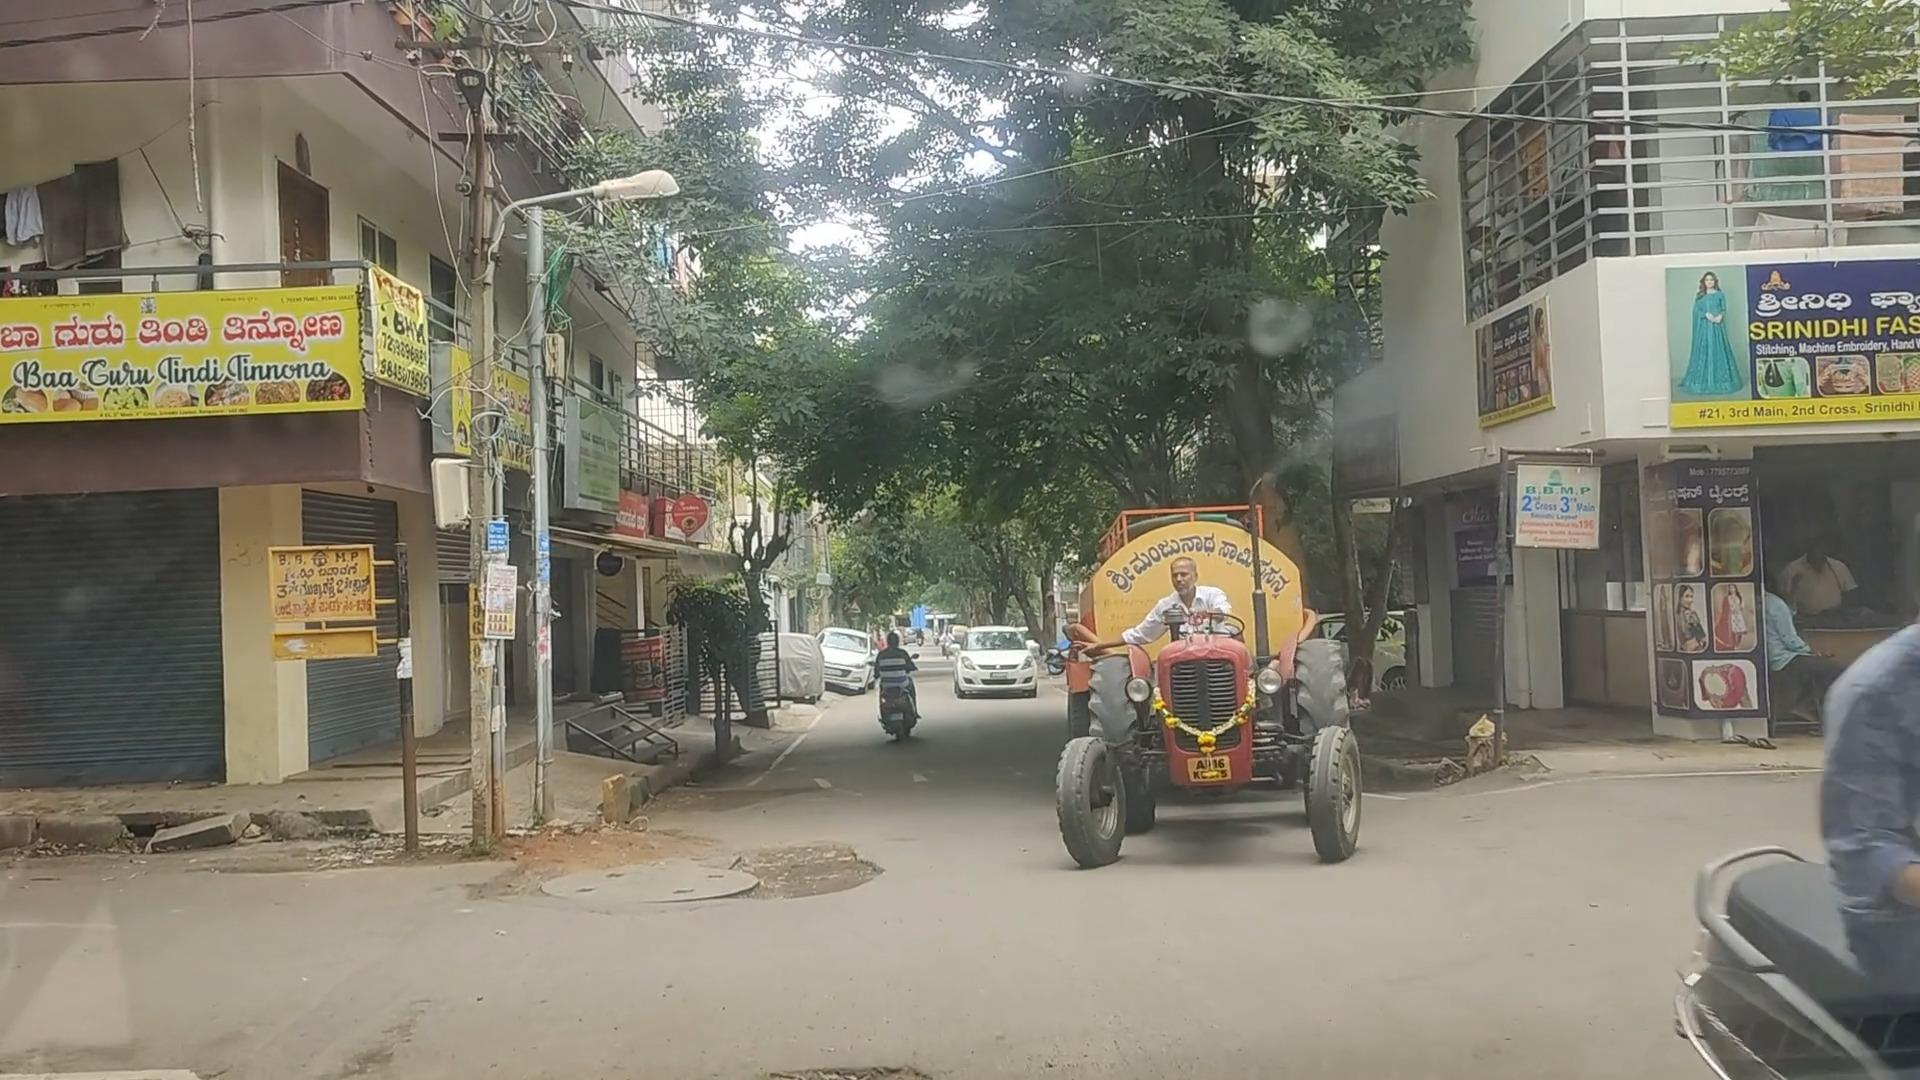HMV: (1023, 477, 1375, 847)
RoadDamages: (496, 836, 885, 944)
